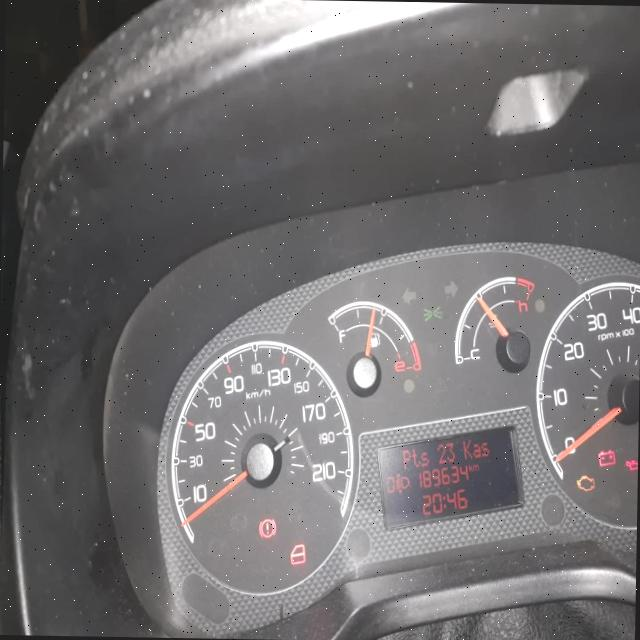odometer: (374, 420, 526, 534)
